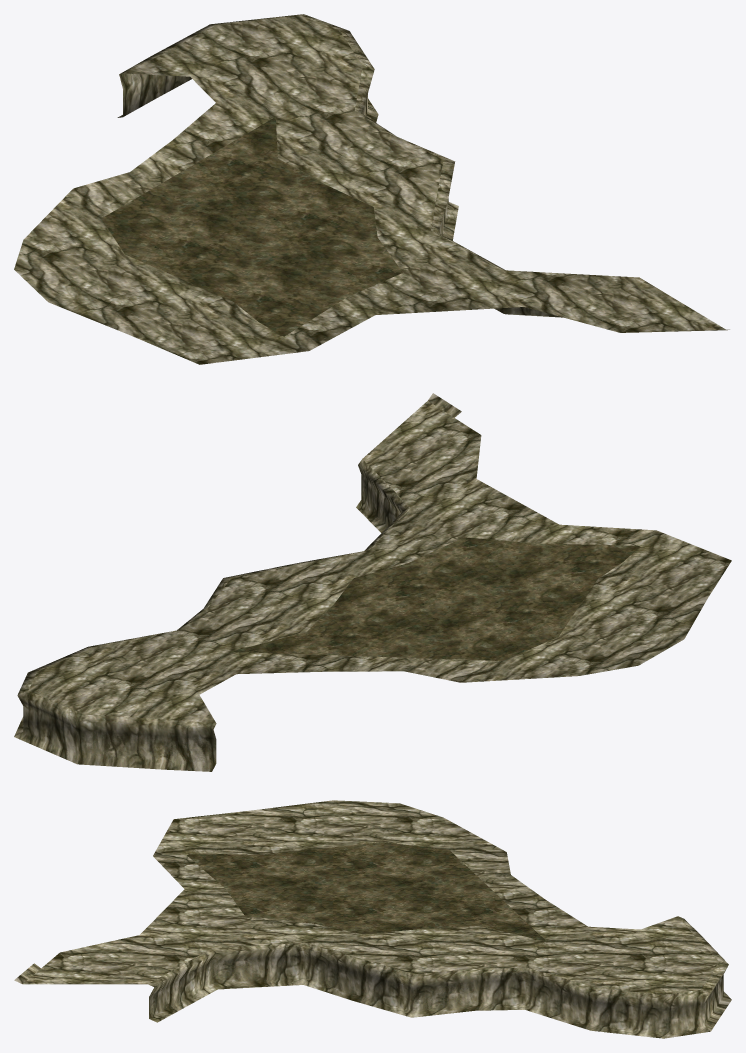
Rendered from CB_NEWPLAYSURFACE_CB_PLAYSURFACE139.fbx.
3 renders of one model, top to bottom at view 1: azimuth 30°, elevation 25°; view 2: azimuth 150°, elevation 25°; view 3: azimuth 270°, elevation 25°, orthographic. The views are drawn at different scales.
Visible parts, largest first — view 1: CB_NEWPLAYSURFACE_CB_PLAYSURFACE139; view 2: CB_NEWPLAYSURFACE_CB_PLAYSURFACE139; view 3: CB_NEWPLAYSURFACE_CB_PLAYSURFACE139.
Boxes of the visible parts, x1=… form: CB_NEWPLAYSURFACE_CB_PLAYSURFACE139: x1=14, y1=14, x2=729, y2=364; CB_NEWPLAYSURFACE_CB_PLAYSURFACE139: x1=14, y1=393, x2=731, y2=771; CB_NEWPLAYSURFACE_CB_PLAYSURFACE139: x1=14, y1=800, x2=731, y2=1038.
Bounding box in the file's own units: 332031 × 35286 × 511098.
3 materials, 3 textured.
